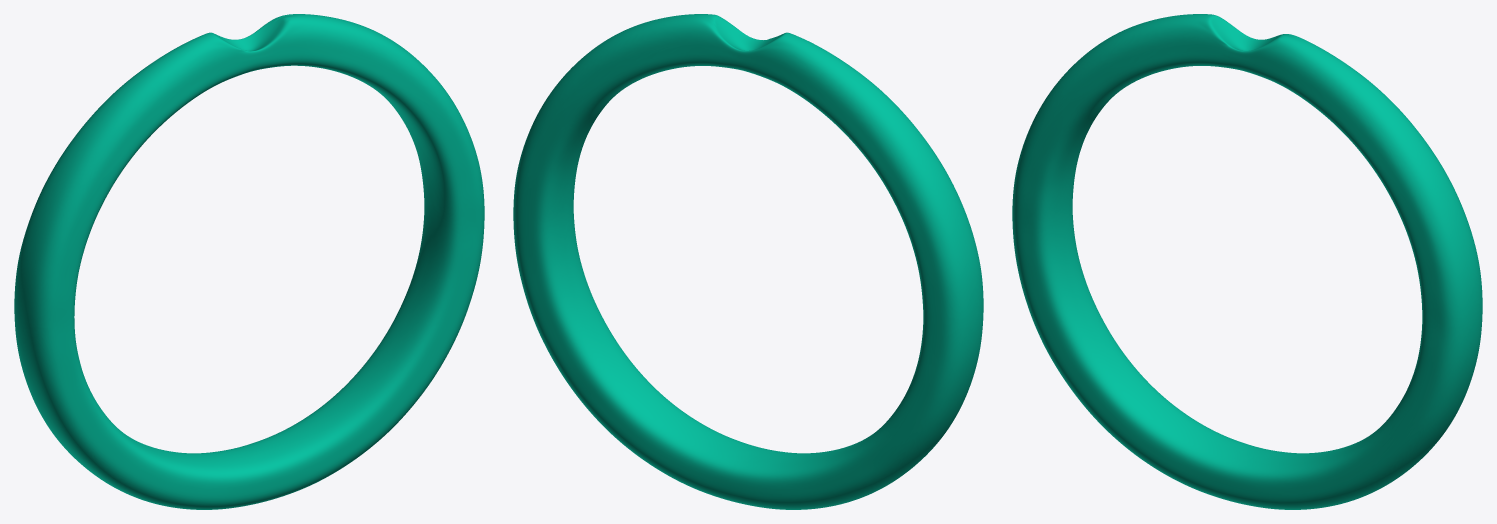
The model's file is Shank_Pinch_Plain Gold_B_No, Hidden Halo_Band.glb.
3 views of the same model, side by side, from view 1: azimuth 30°, elevation 25°; view 2: azimuth 150°, elevation 25°; view 3: azimuth 330°, elevation 25° (orthographic).
Bounding box in the file's own units: 0.0213 × 0.0212 × 0.00269.
